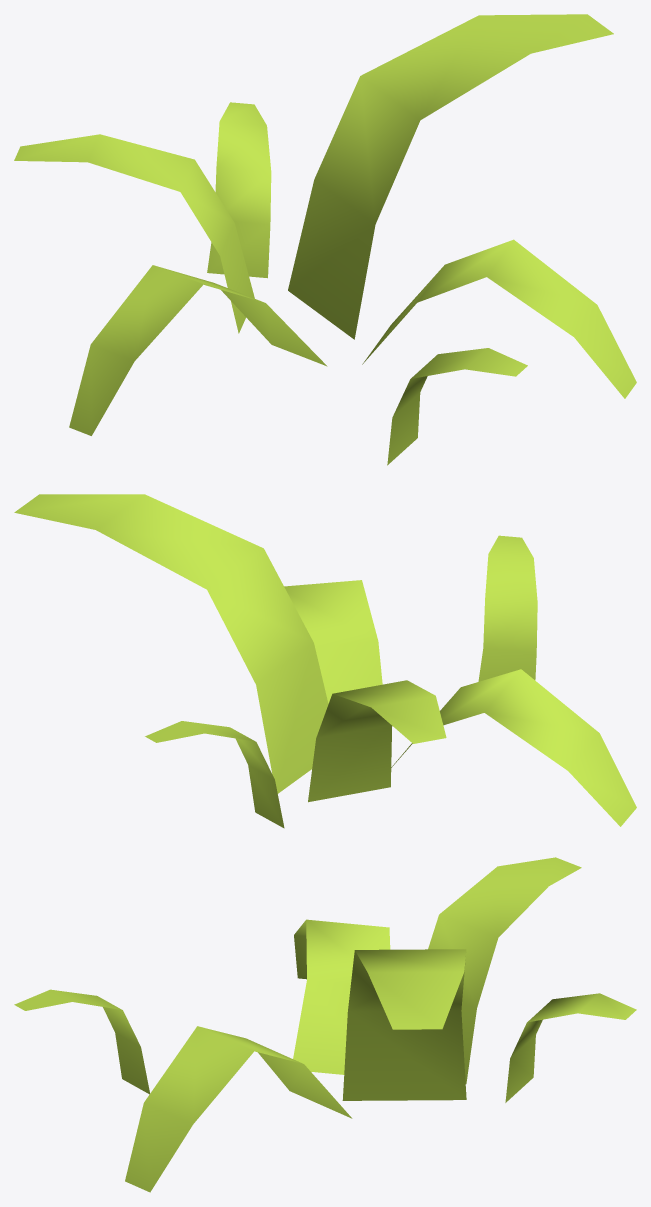
File: Grass.glb
The picture shows the model from 3 angles, top to bottom: view 1: azimuth 30°, elevation 25°; view 2: azimuth 150°, elevation 25°; view 3: azimuth 270°, elevation 25°; orthographic projection. The views are drawn at different scales.
Parts seen in each view (by area): view 1: Grass_1; view 2: Grass_1; view 3: Grass_1.
Boxes of the visible parts, x1,y1,x2,y2 form: Grass_1: (14,14,636,465); Grass_1: (14,494,636,828); Grass_1: (14,857,636,1192).
Bounding box in the file's own units: 1.78 × 0.7331 × 1.78.
